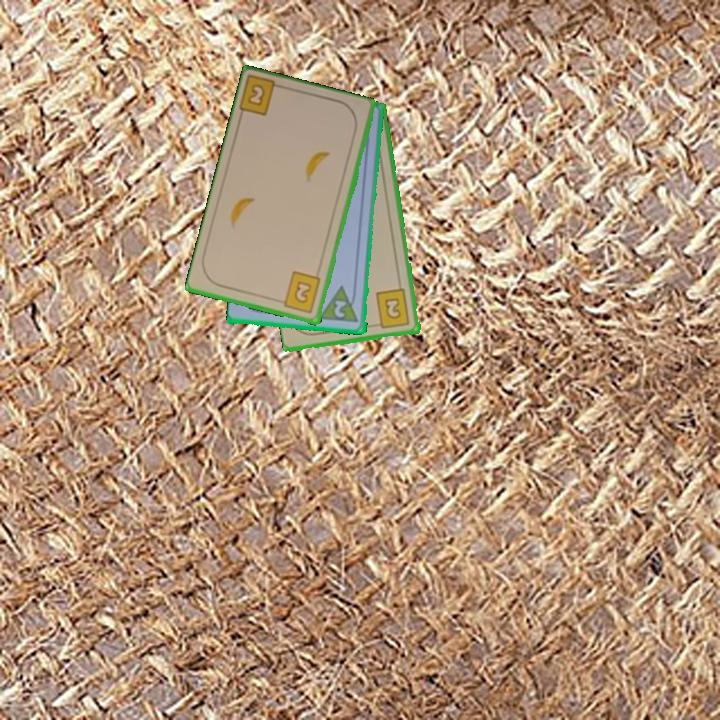2b: (275, 268, 324, 316), (237, 74, 289, 119), (371, 286, 413, 332)
2p: (331, 296, 350, 321)
